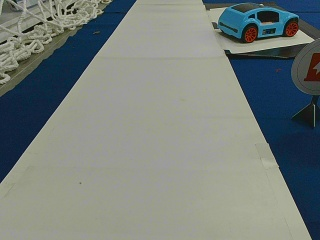battery: (292, 40, 319, 97)
car: (218, 4, 299, 42)
